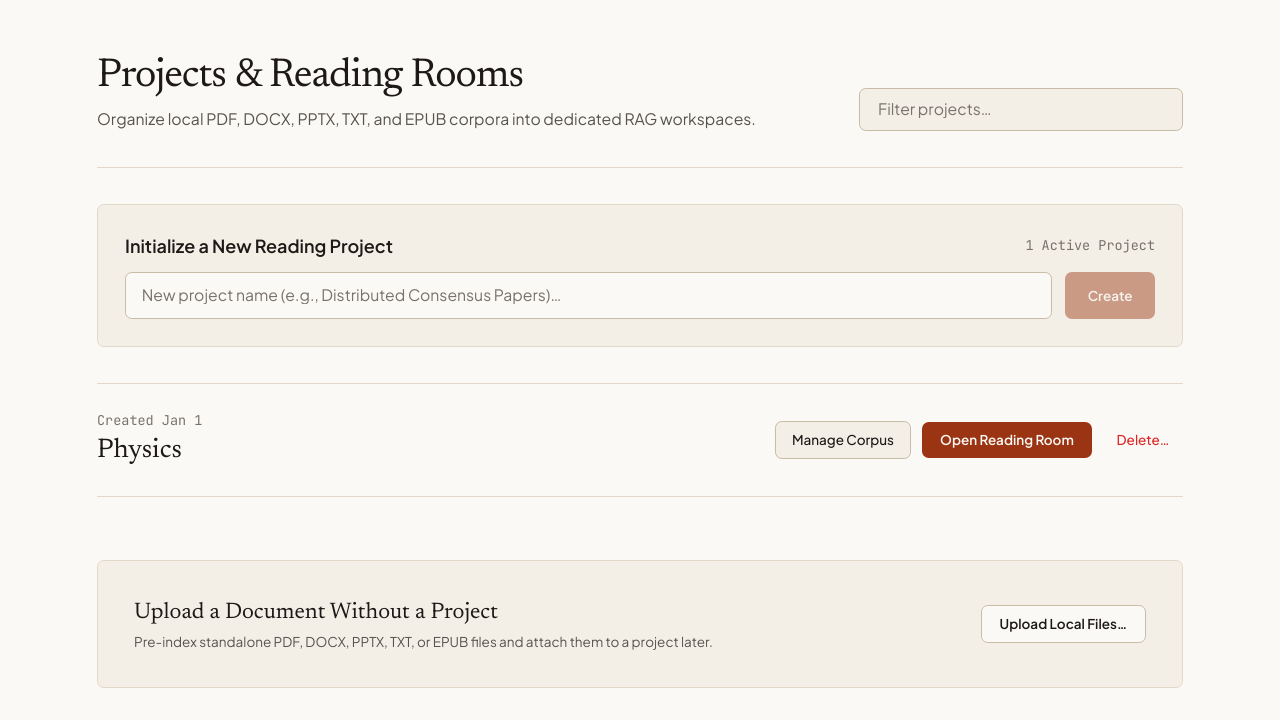
Scenario: ProjectsListScreen › shows an error if deleting a project fails
Click the button "Delete…".
click(1143, 440)  # box [1103, 422, 1183, 458]
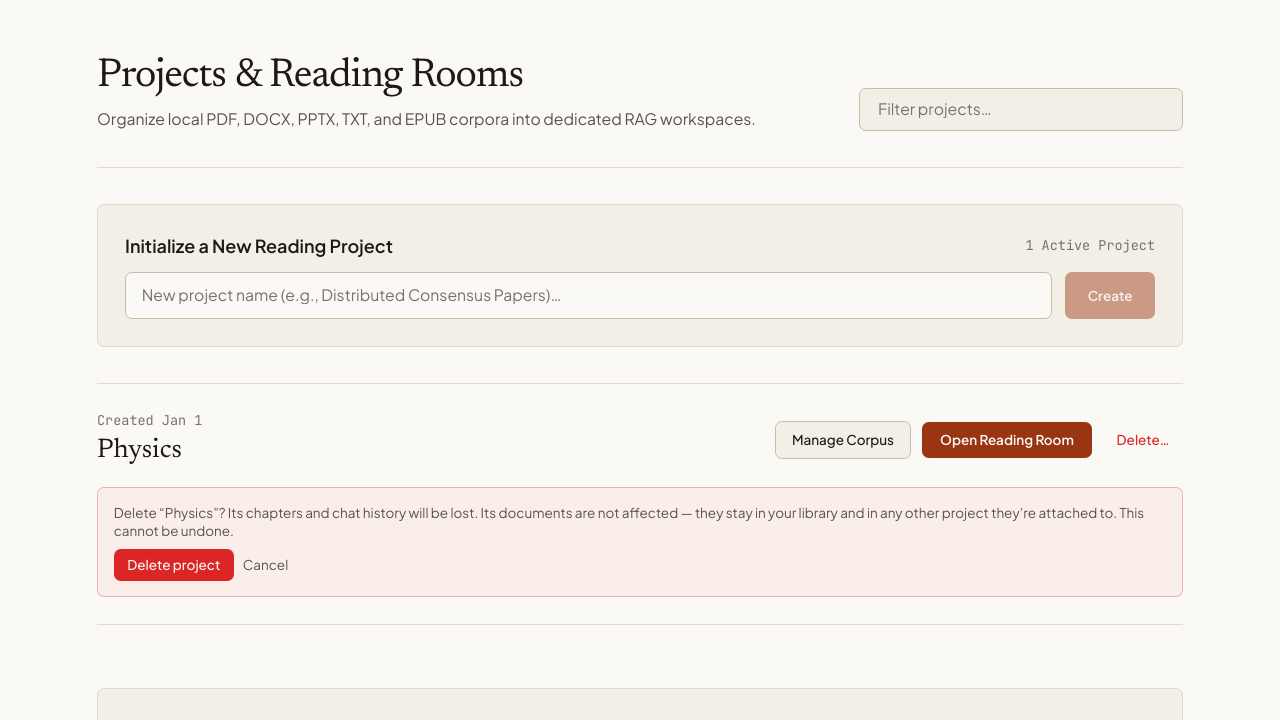
Click the button "Delete project".
click(174, 565)  # box [114, 549, 234, 581]
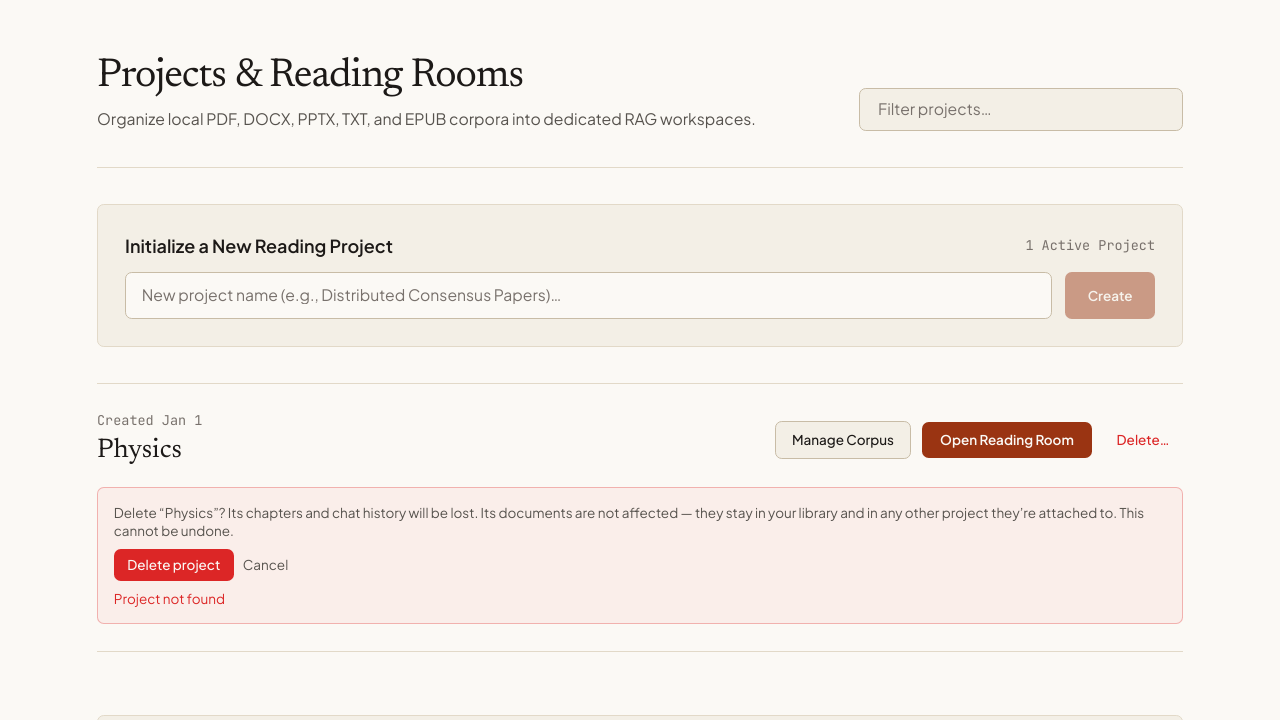
Expected: the text "Project not found" is shown, [114, 590, 225, 607]
